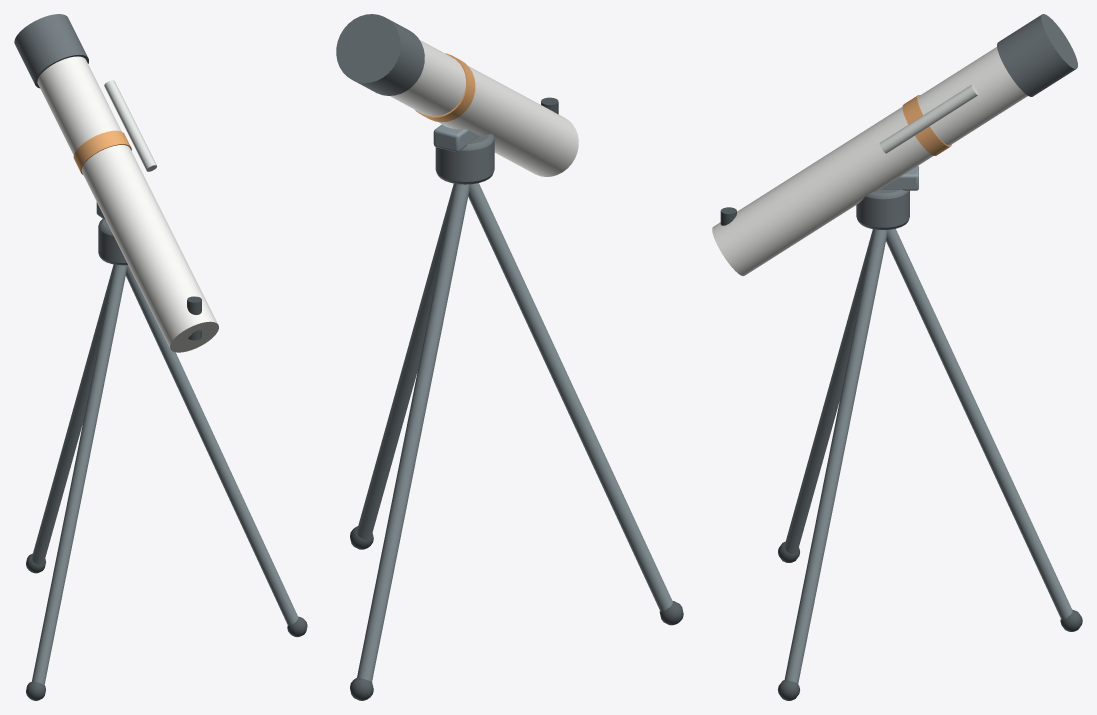
The model's file is telescope.glb.
3 views of the same model, side by side, from view 1: azimuth 30°, elevation 25°; view 2: azimuth 150°, elevation 25°; view 3: azimuth 270°, elevation 25° (orthographic). The views are drawn at different scales.
Parts seen in each view (by area): view 1: tube_white_painted, tripod_dark_alloy, dew_shield_graphite, finder_satin_steel, tube_band_orange, feet_black_rubber, mount_graphite; view 2: tripod_dark_alloy, tube_white_painted, dew_shield_graphite, mount_graphite, feet_black_rubber, cradle_dark_alloy, tube_band_orange; view 3: tube_white_painted, tripod_dark_alloy, dew_shield_graphite, mount_graphite, finder_satin_steel, feet_black_rubber, tube_band_orange.
Boxes of the visible parts, x1=… form: tube_white_painted: x1=37, y1=56, x2=218, y2=352; tripod_dark_alloy: x1=32, y1=264, x2=298, y2=684; dew_shield_graphite: x1=14, y1=14, x2=88, y2=88; finder_satin_steel: x1=104, y1=80, x2=156, y2=171; tube_band_orange: x1=73, y1=130, x2=131, y2=174; feet_black_rubber: x1=26, y1=553, x2=307, y2=700; mount_graphite: x1=98, y1=219, x2=127, y2=265; tripod_dark_alloy: x1=357, y1=183, x2=672, y2=682; tube_white_painted: x1=390, y1=40, x2=578, y2=176; dew_shield_graphite: x1=336, y1=14, x2=424, y2=95; mount_graphite: x1=435, y1=134, x2=494, y2=184; feet_black_rubber: x1=350, y1=526, x2=683, y2=700; cradle_dark_alloy: x1=433, y1=124, x2=479, y2=151; tube_band_orange: x1=415, y1=53, x2=475, y2=122; tube_white_painted: x1=712, y1=47, x2=1027, y2=275; tripod_dark_alloy: x1=784, y1=229, x2=1072, y2=683; dew_shield_graphite: x1=997, y1=14, x2=1077, y2=96; mount_graphite: x1=856, y1=189, x2=909, y2=229; finder_satin_steel: x1=879, y1=84, x2=978, y2=153; feet_black_rubber: x1=778, y1=541, x2=1082, y2=700; tube_band_orange: x1=902, y1=95, x2=951, y2=155.
Size of the model in its own units: 0.775 by 1.51 by 0.8263.
